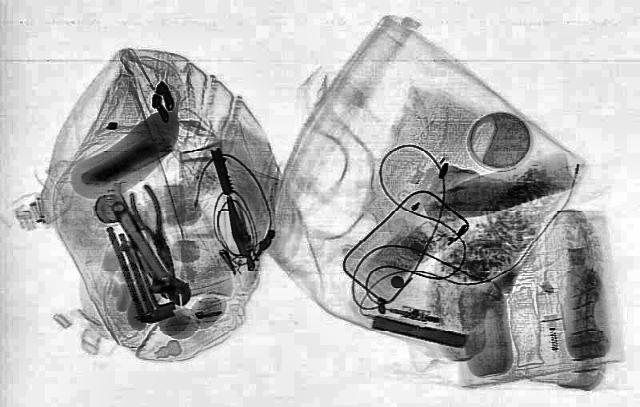Pliers: (118, 183, 186, 273)
Wrench: (93, 198, 201, 311)
